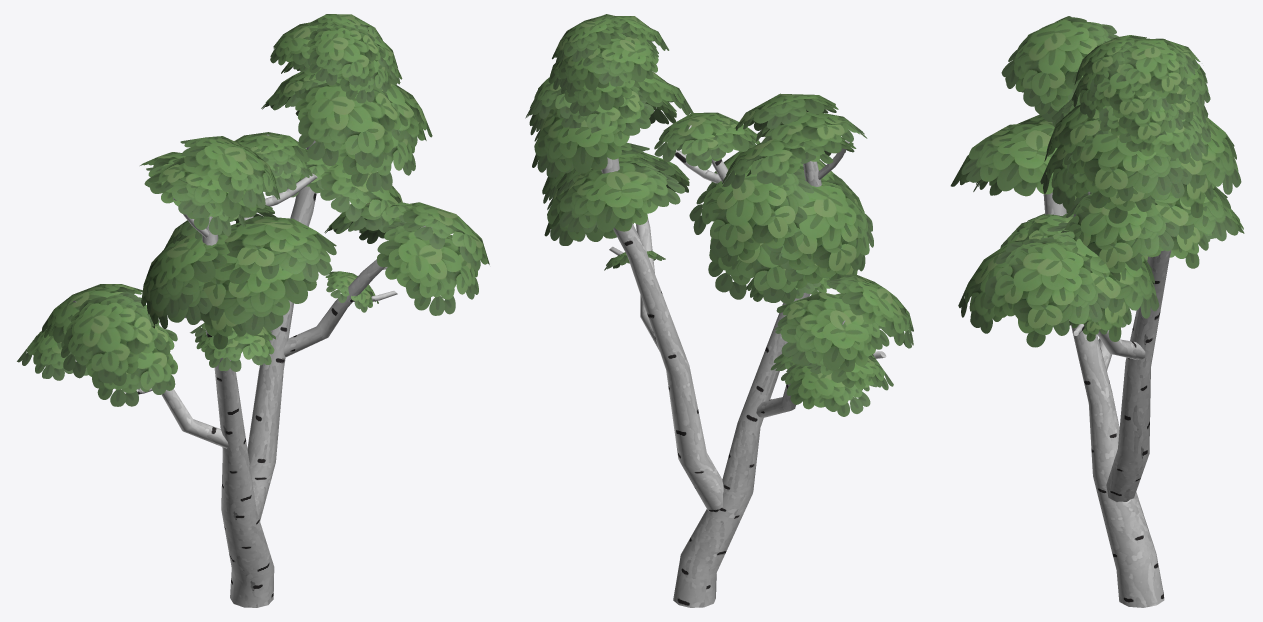
The model's file is birch_8.glb.
3 views of the same model, side by side, from view 1: azimuth 30°, elevation 25°; view 2: azimuth 150°, elevation 25°; view 3: azimuth 270°, elevation 25° (orthographic). The views are drawn at different scales.
Parts seen in each view (by area): view 1: Birch_8; view 2: Birch_8; view 3: Birch_8.
Boxes of the visible parts, x1,y1,x2,y2 form: Birch_8: [17, 14, 489, 607]; Birch_8: [525, 14, 913, 607]; Birch_8: [950, 16, 1244, 607].
Size of the model in its own units: 7.33 by 9.9 by 4.51.
2 materials, 2 textured.
